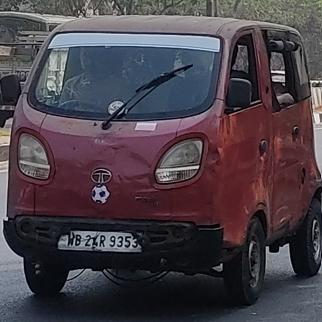Auto: (5, 13, 322, 309)
